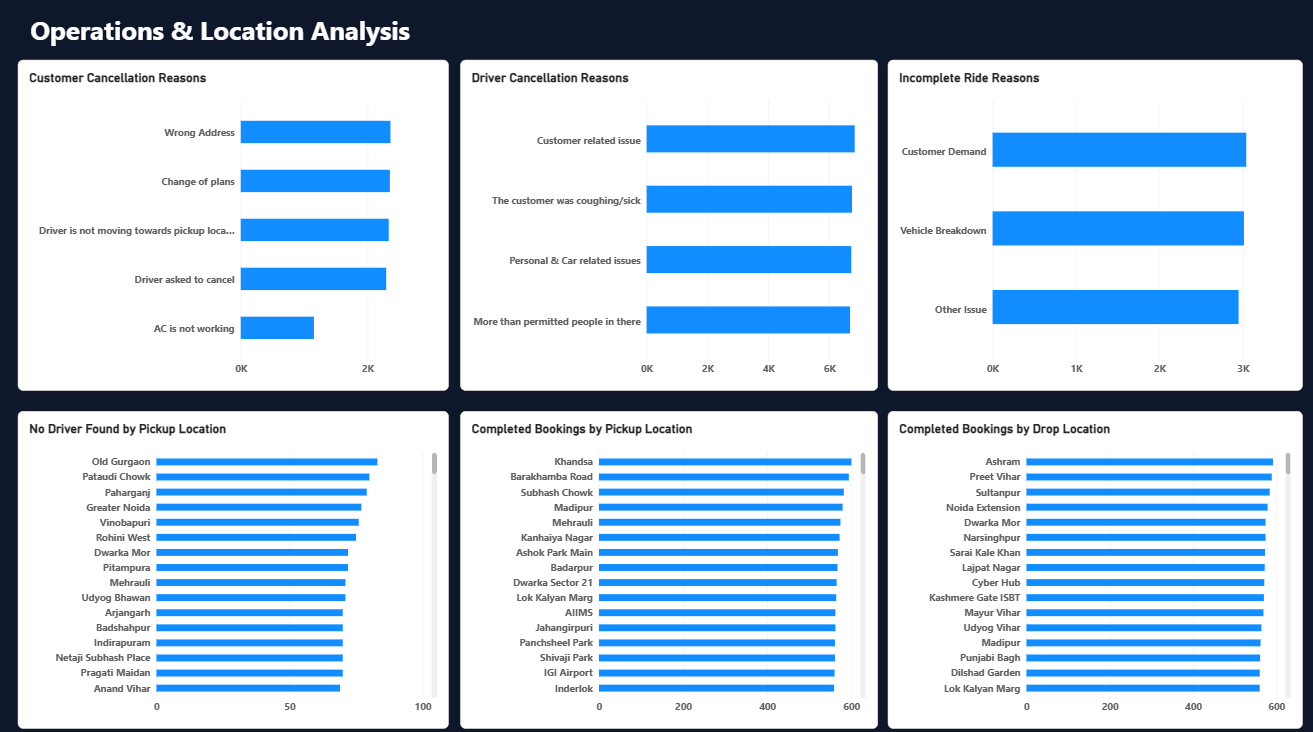

The page's visual inventory and layout, read from the dashboard file:
{"tool":"powerbi","page":{"name":"Operations & Location Analysis","canvas":[1920,1080],"ordinal":2},"visuals":[{"type":"clusteredBarChart","title":"Customer Cancellation Reasons","fields":{"Category":["ncr_ride_bookings_clean.Reason for cancelling by Customer"],"Y":["CountNonNull(ncr_ride_bookings_clean.Booking ID)"]},"box":[34.4,99.5,624.3,479.6],"z":0},{"type":"clusteredBarChart","title":"Driver Cancellation Reasons","fields":{"Category":["ncr_ride_bookings_clean.Driver Cancellation Reason"],"Y":["CountNonNull(ncr_ride_bookings_clean.Booking ID)"]},"box":[675,99.5,604.4,479.6],"z":1000},{"type":"clusteredBarChart","title":"Incomplete Ride Reasons","fields":{"Category":["ncr_ride_bookings_clean.Incomplete Rides Reason"],"Y":["CountNonNull(ncr_ride_bookings_clean.Booking ID)"]},"box":[1293.9,99.5,600.8,479.6],"z":2000},{"type":"clusteredBarChart","title":"No Driver Found by Pickup Location","fields":{"Category":["ncr_ride_bookings_clean.Pickup Location"],"Y":["CountNonNull(ncr_ride_bookings_clean.Booking ID)"]},"box":[34.4,608,624.3,459.7],"z":3000},{"type":"clusteredBarChart","title":"Completed Bookings by Pickup Location","fields":{"Category":["ncr_ride_bookings_clean.Pickup Location"],"Y":["CountNonNull(ncr_ride_bookings_clean.Booking ID)"]},"box":[675,608,604.4,459.7],"z":4000},{"type":"clusteredBarChart","title":"Completed Bookings by Drop Location","fields":{"Category":["ncr_ride_bookings_clean.Drop Location"],"Y":["CountNonNull(ncr_ride_bookings_clean.Booking ID)"]},"box":[1293.9,608,600.8,459.7],"z":5000},{"type":"textbox","box":[1654,141,161,480],"z":6000},{"type":"textbox","box":[52.5,30.8,803.5,86.9],"z":7000}]}

Visuals, with their boxes in screenshot pixels (x1, y1, x2, y2), scaled from the page's 1920x1080 canvas onto the 1313x732 screenshot:
"Customer Cancellation Reasons" clusteredBarChart: (24,67,450,393)
"Driver Cancellation Reasons" clusteredBarChart: (462,67,875,393)
"Incomplete Ride Reasons" clusteredBarChart: (885,67,1296,393)
"No Driver Found by Pickup Location" clusteredBarChart: (24,412,450,724)
"Completed Bookings by Pickup Location" clusteredBarChart: (462,412,875,724)
"Completed Bookings by Drop Location" clusteredBarChart: (885,412,1296,724)
textbox: (1131,96,1241,421)
textbox: (36,21,585,80)
